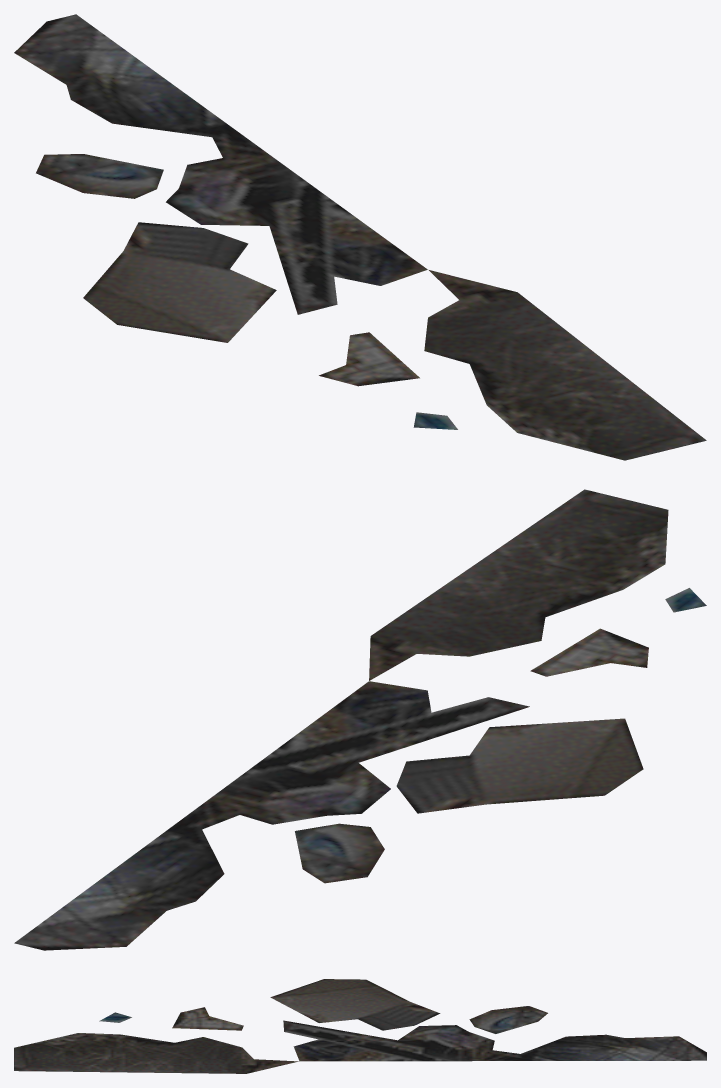
The model's file is bz_trash_07.fbx.
The picture shows the model from 3 angles, top to bottom: view 1: azimuth 30°, elevation 25°; view 2: azimuth 150°, elevation 25°; view 3: azimuth 270°, elevation 25°; orthographic projection. The views are drawn at different scales.
Visible parts, largest first — view 1: bz_trash_07; view 2: bz_trash_07; view 3: bz_trash_07.
Boxes of the visible parts, x1=… form: bz_trash_07: x1=14, y1=14, x2=706, y2=460; bz_trash_07: x1=14, y1=489, x2=706, y2=950; bz_trash_07: x1=14, y1=979, x2=706, y2=1073.
Bounding box in the file's own units: 2.53 × 1.27e-06 × 7.81.
